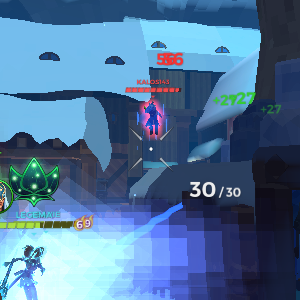model: (137, 101, 167, 136)
